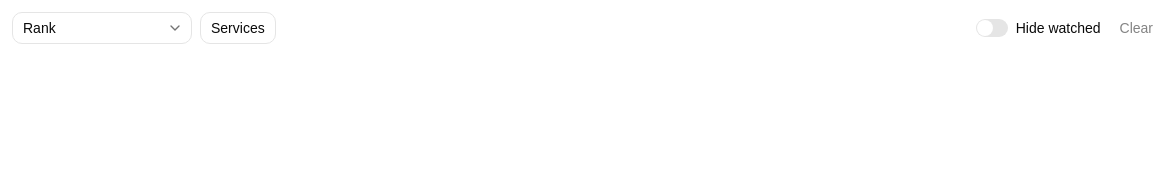
FilterBar › lists all four sort options in the dropdown
Click the dropdown named "Sort order": (102, 28) [12,12,192,44]
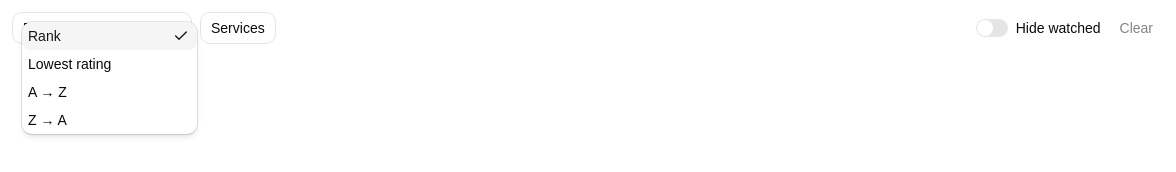
Now the option "Rank" is shown, box [22,22,197,50]
Now the option "Lowest rating" is shown, box [28,56,111,72]
Now the option "A → Z" is shown, box [28,84,67,100]
